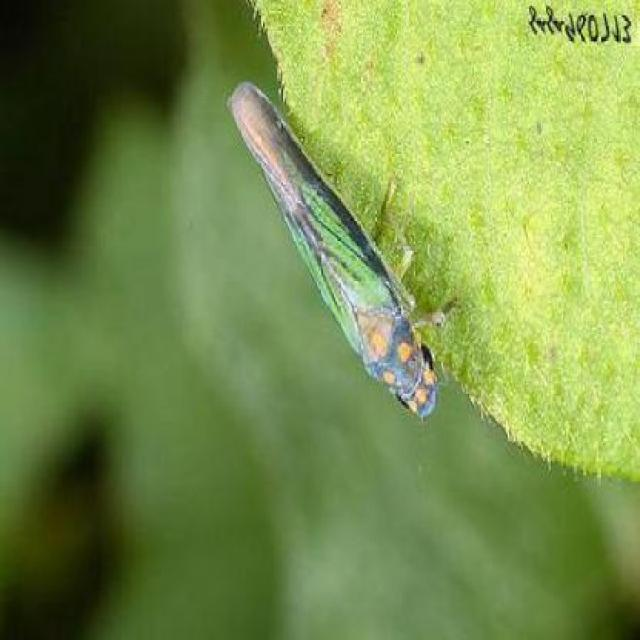green-leafhopper: (225, 81, 451, 427)
